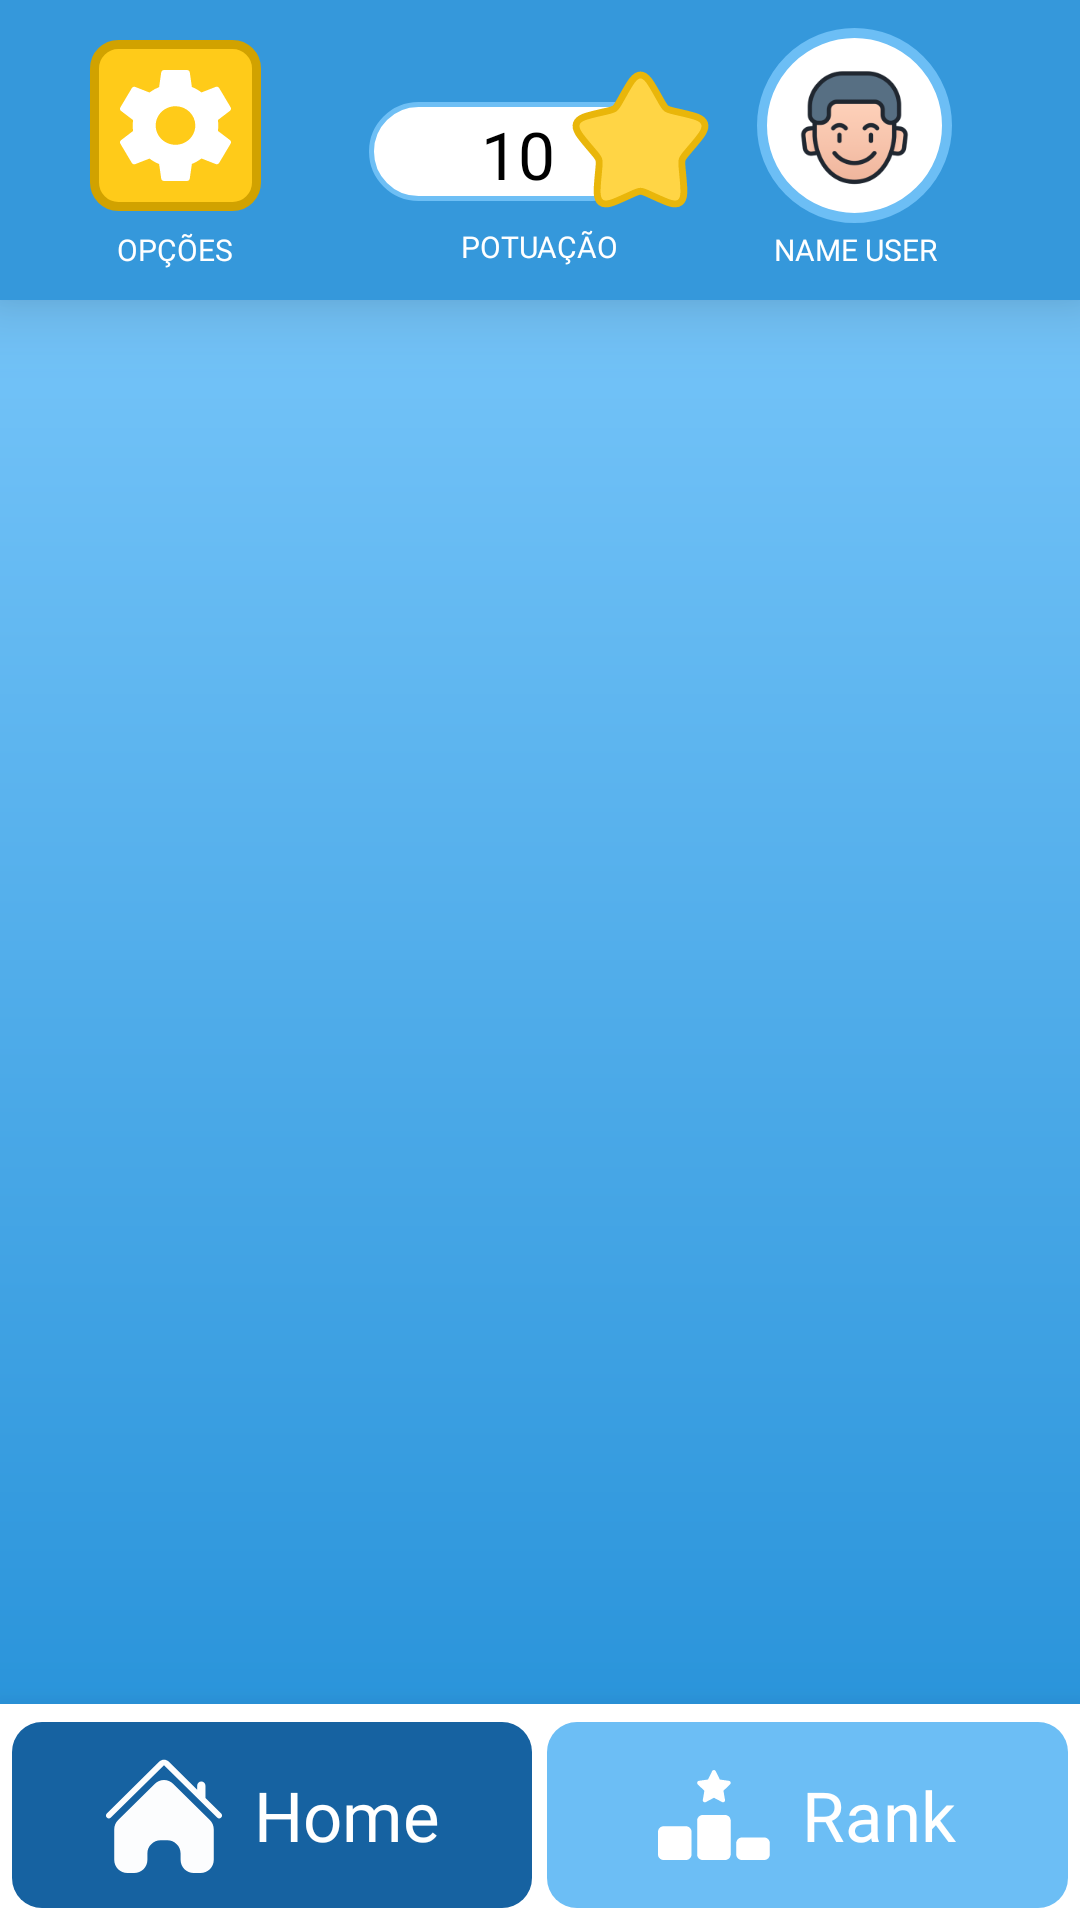

Named icons in this screenshot (1080px x 1920px) and their bounding boxes, (x1, y1, x2, y2):
boy profile: (801, 71, 908, 184)
